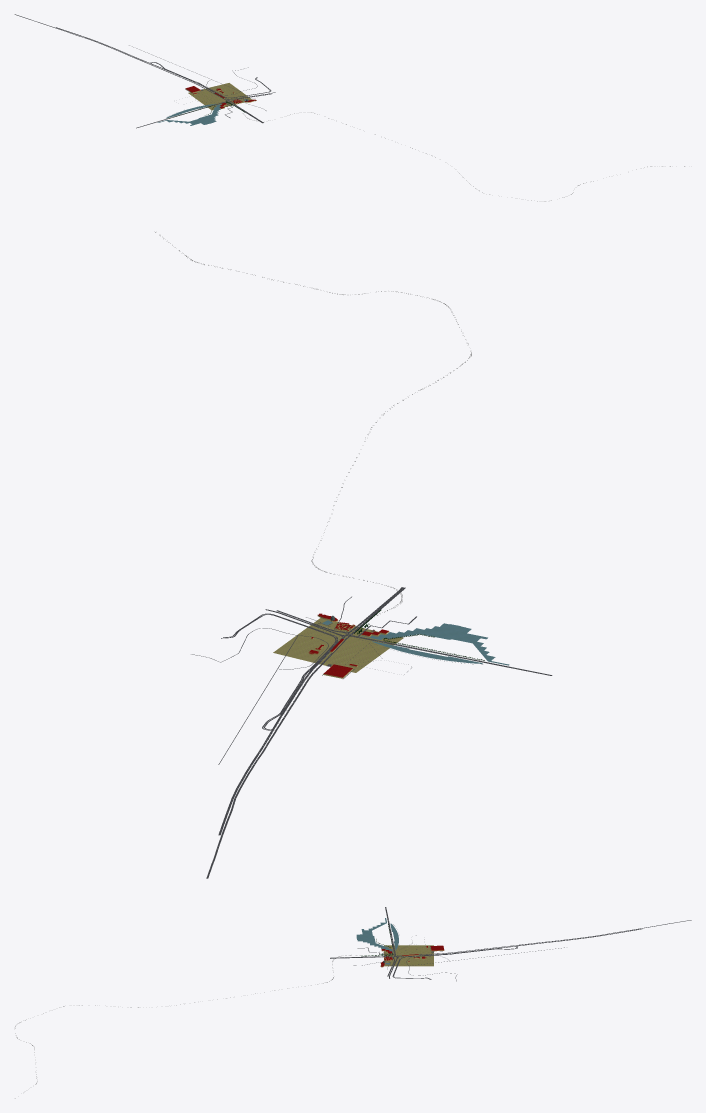
3 renders of one model, top to bottom at view 1: azimuth 30°, elevation 25°; view 2: azimuth 150°, elevation 25°; view 3: azimuth 270°, elevation 25°, orthographic. The views are drawn at different scales.
Visible parts, largest first — view 1: Water সংসদ ভবন লেক; view 2: Water সংসদ ভবন লেক; view 3: Water সংসদ ভবন লেক.
Boxes of the visible parts, bbox=[...] form: Water সংসদ ভবন লেক: bbox=[157, 104, 221, 125]; Water সংসদ ভবন লেক: bbox=[361, 623, 509, 665]; Water সংসদ ভবন লেক: bbox=[356, 918, 392, 952].
Bounding box in the file's own units: 4909 × 35.12 × 7331.
14 materials, 13 textured.
